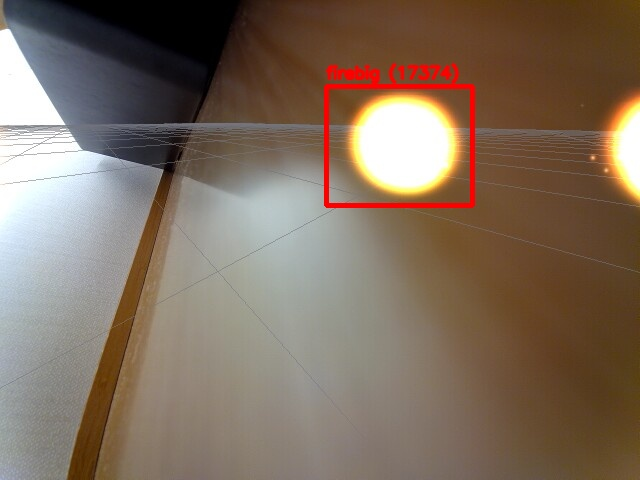firebig: (326, 86, 472, 205)
